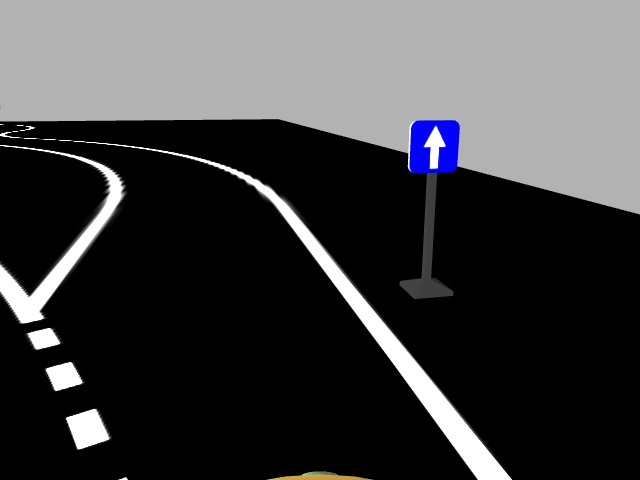OneWay: (407, 119, 458, 171)
